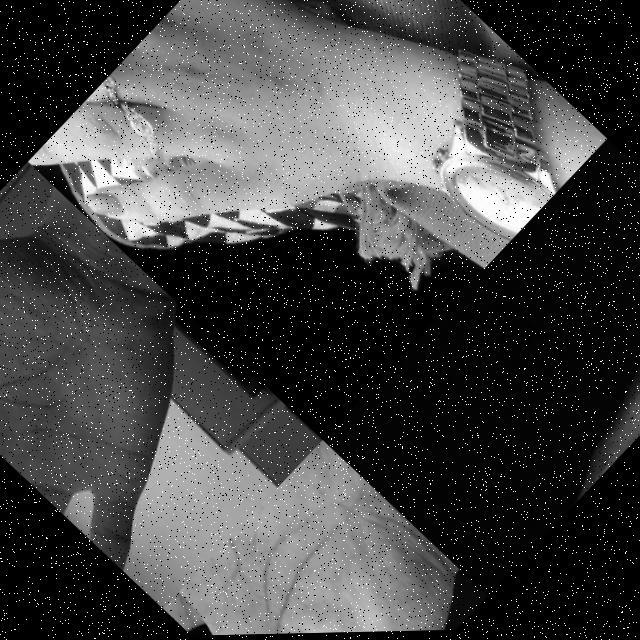no-gloves: (27, 0, 447, 362), (343, 162, 640, 601), (0, 167, 293, 594), (162, 438, 487, 638)
